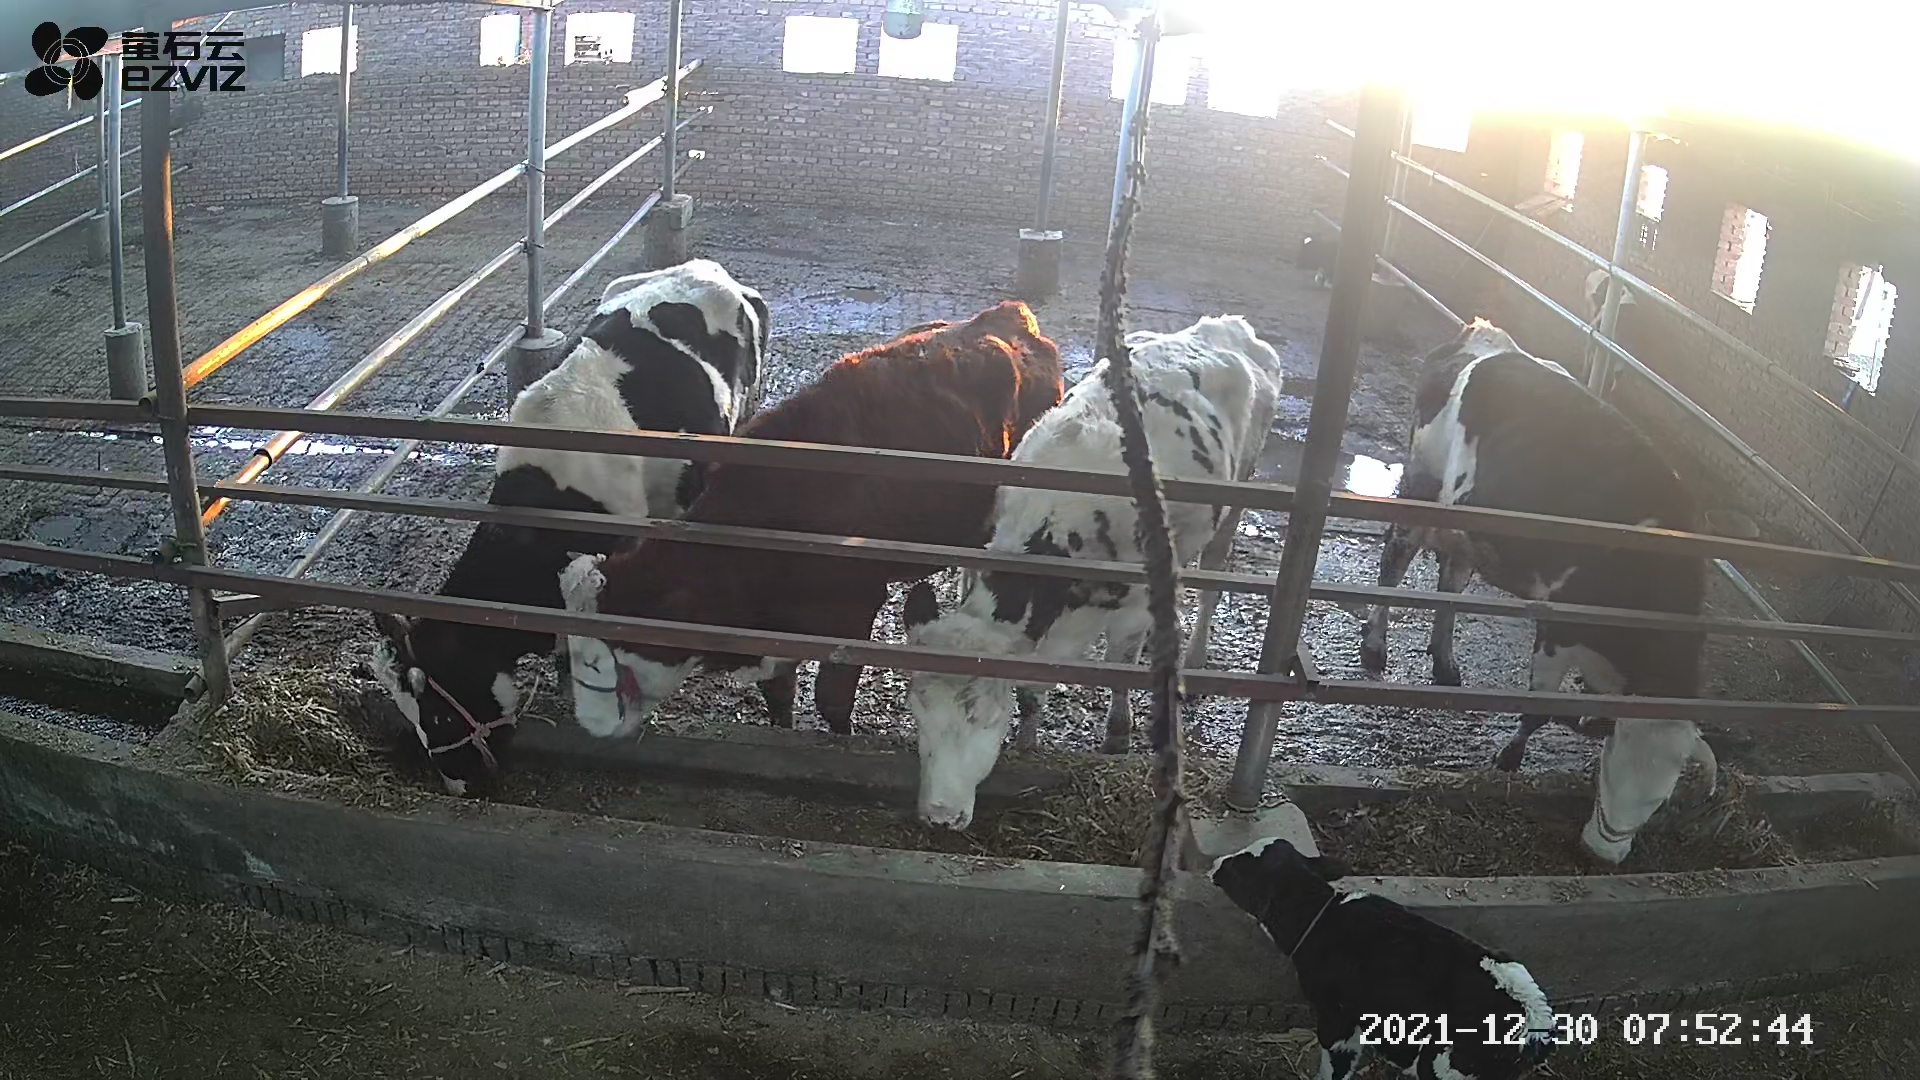cow: (556, 297, 1065, 742), (367, 253, 769, 802), (1358, 313, 1754, 868), (901, 310, 1282, 833)
